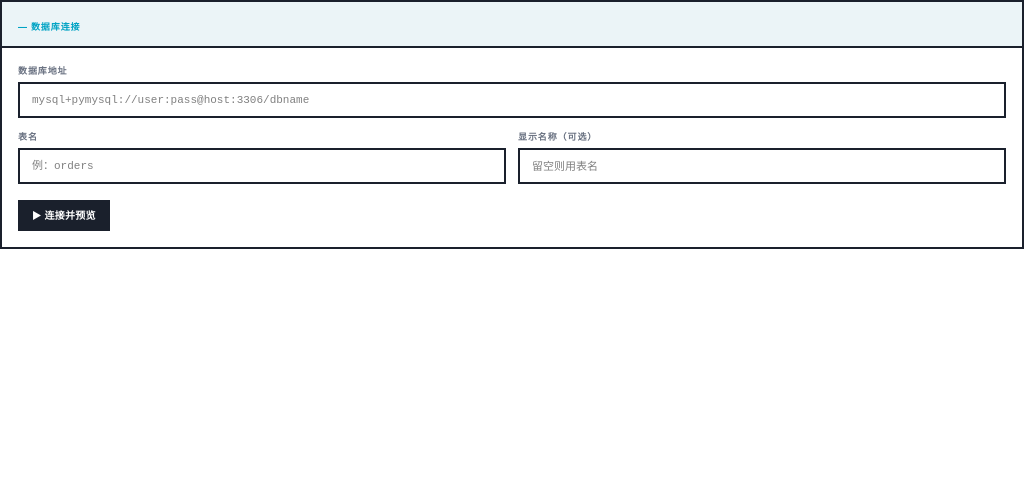
DbPanel › 连接成功且有样例时展示可导入提示
Type "mysql://demo" into the field with placeholder "mysql+pymysql://user:pass@host:3306/dbname".
click(512, 100); type("mysql://demo")  # box [18,82,1006,118]
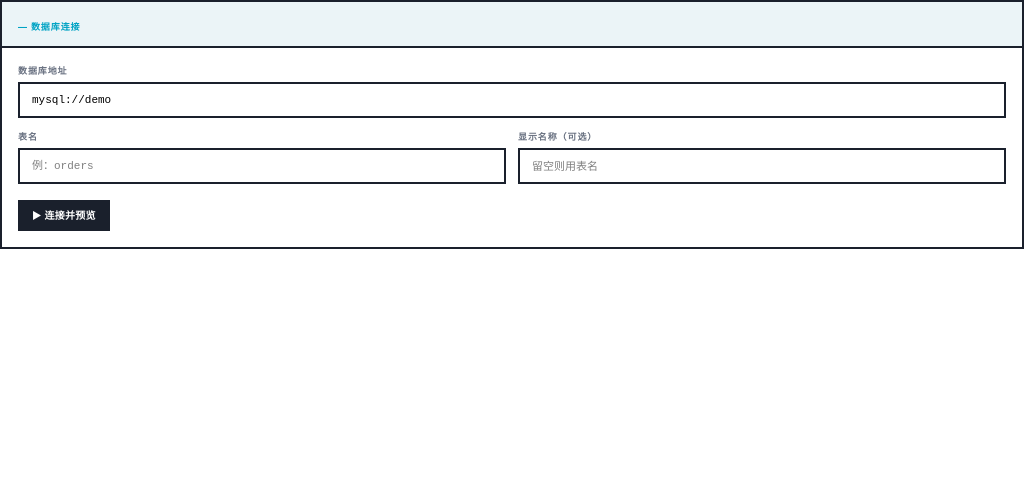
Type "orders" into the field with placeholder "例：orders".
click(262, 166); type("orders")  # box [18,148,506,184]
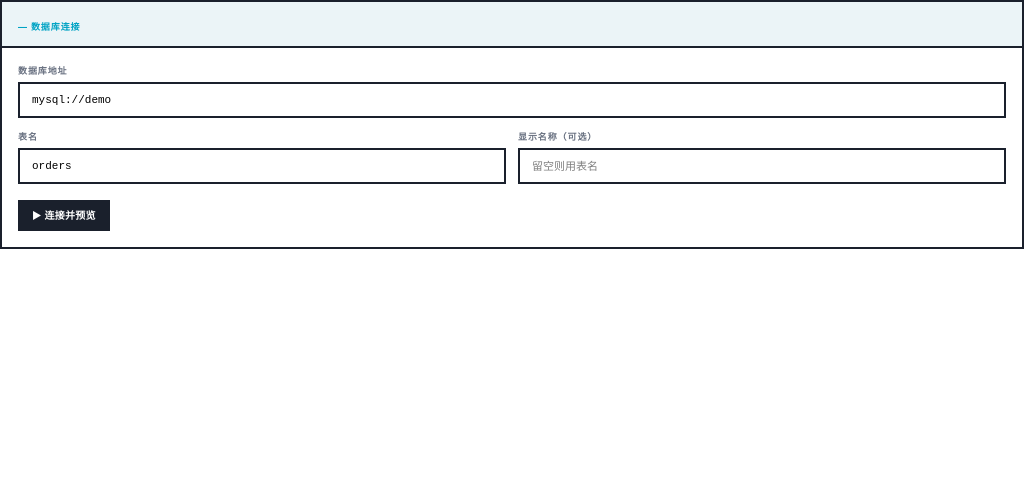
Click the button "▶ 连接并预览".
click(64, 216)  # box [18,200,110,231]
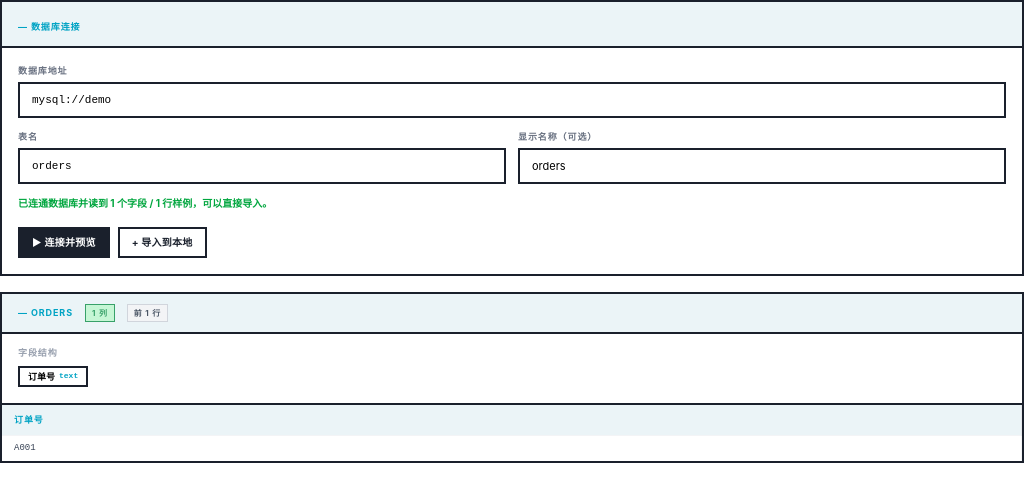
Now the text "已连通数据库并读到 1 个字段 / 1 行样例，可以直接导入。" is shown, box [18,197,272,209]
